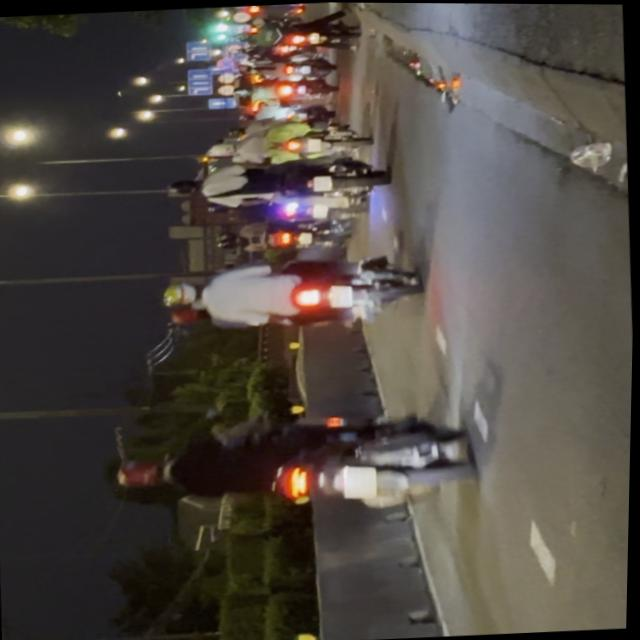helmet: (116, 455, 175, 490)
licenseplate: (109, 400, 478, 521), (159, 248, 431, 338)
nohelmet: (342, 465, 379, 499), (329, 284, 354, 307)
